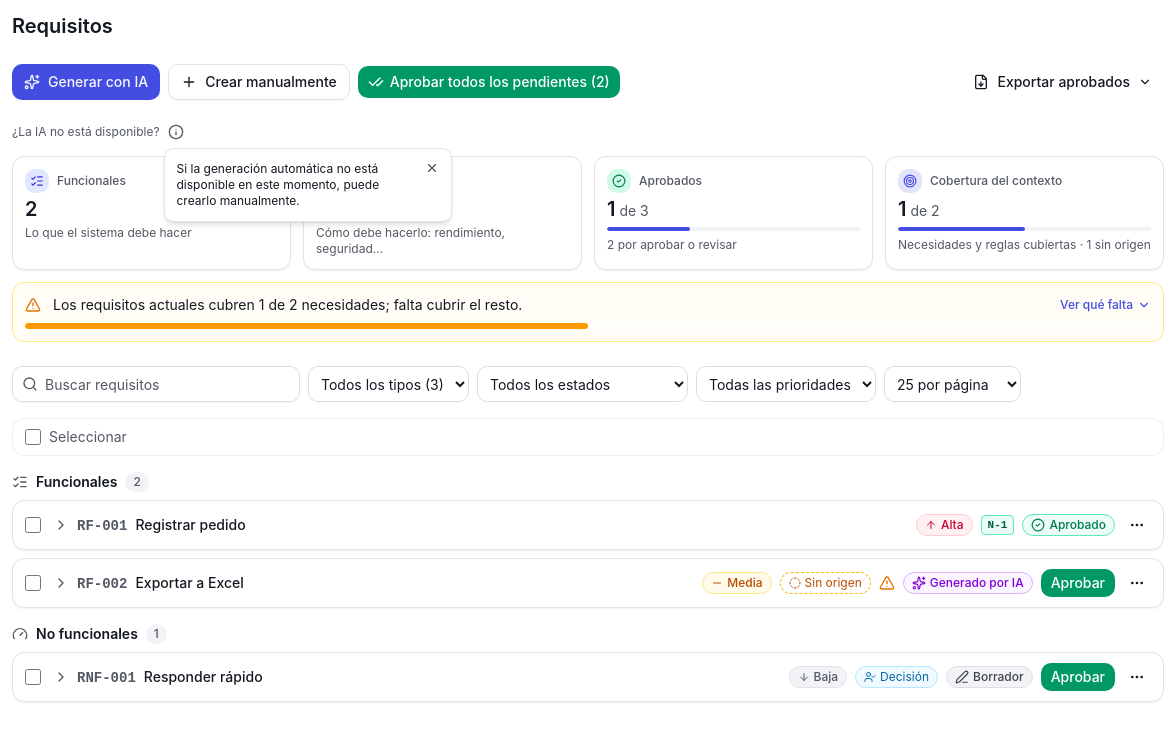
Requirements list › opens a row by clicking it, not from its menu
This screenshot has width=1176, height=732.
Click the button named "Más acciones de RF-002": coordinates (1137, 583) [1123, 569, 1151, 597]
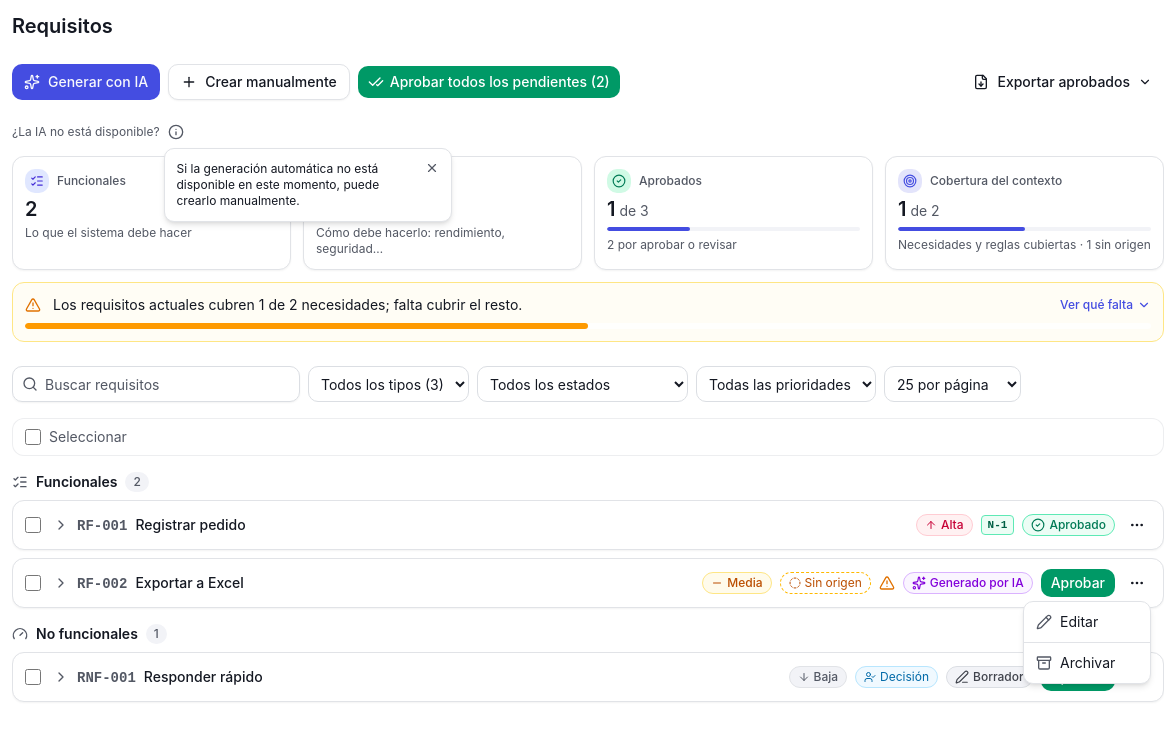
Result: the menu item "Editar" is shown at [1036, 613, 1098, 630]
Press Escape
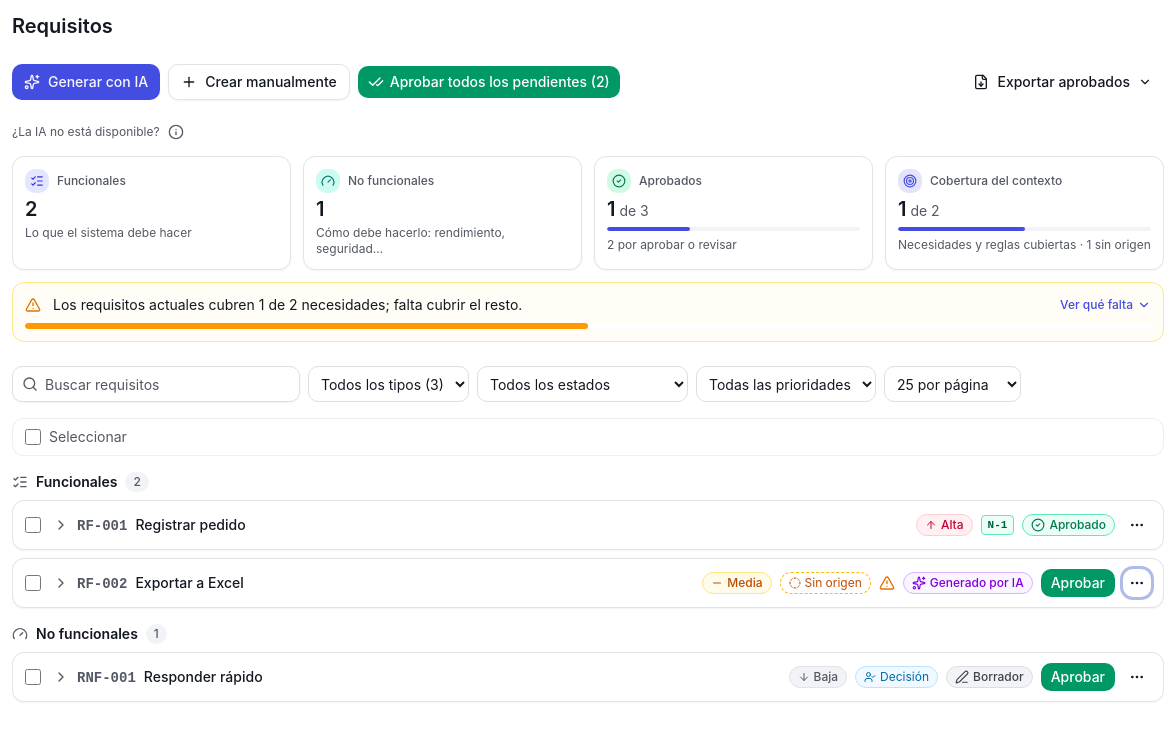
Click the text "Exportar a Excel": coordinates (190, 582) [135, 572, 244, 592]
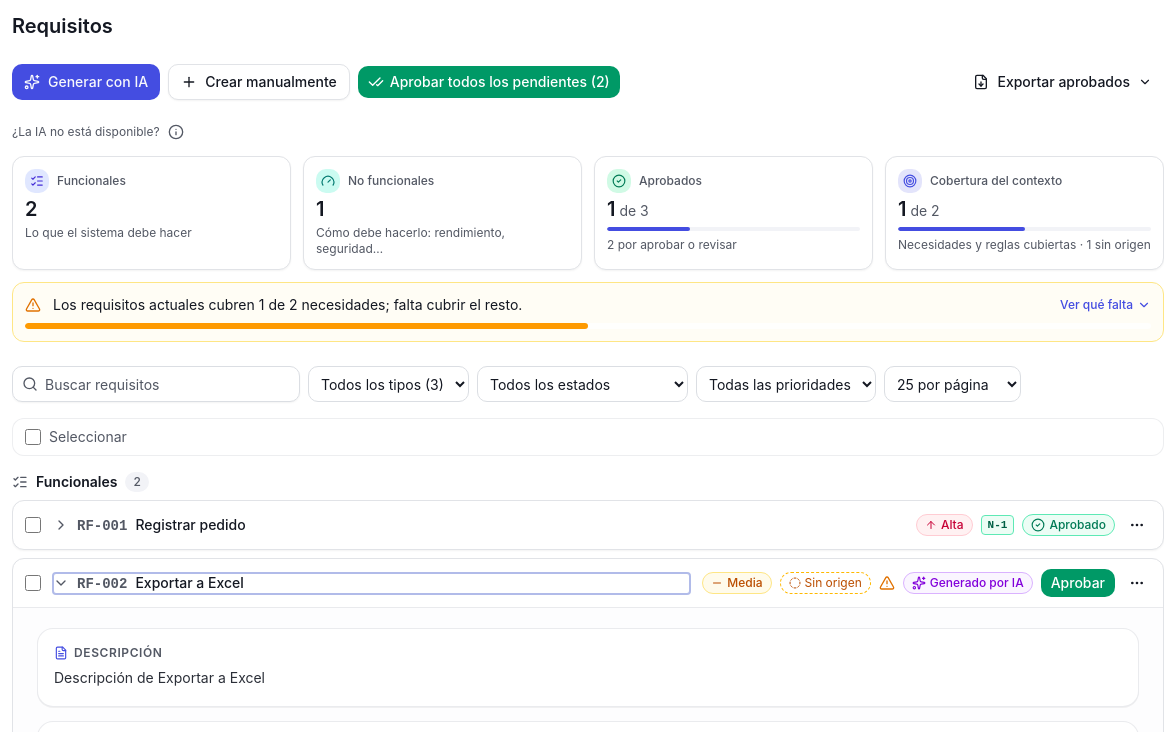
Result: the text "Descripción de Exportar a Excel" is shown at [54, 669, 265, 686]
